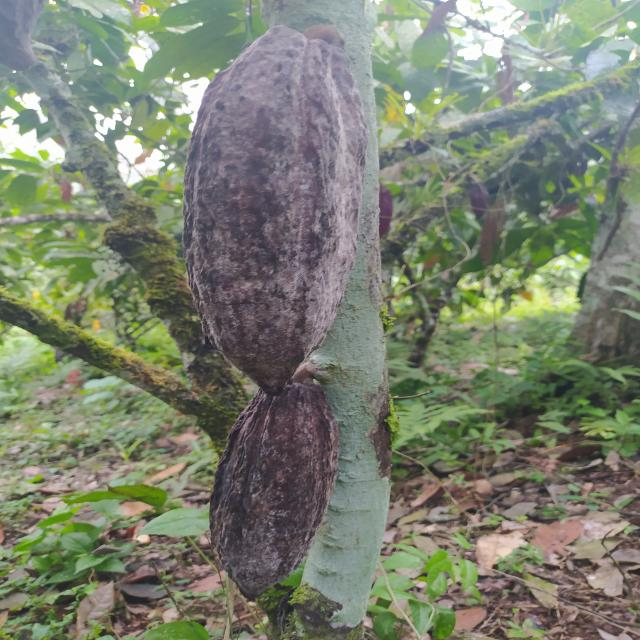Fitoftora: (186, 24, 346, 400), (208, 378, 343, 601)
